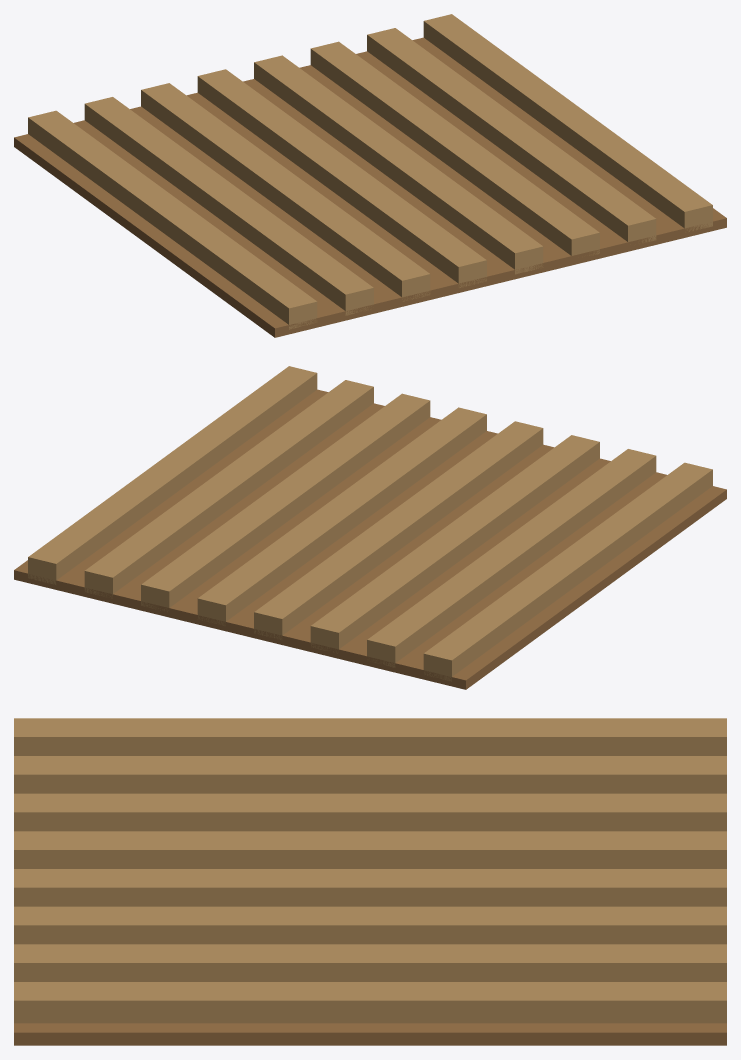
File: TR3_Plowed_Farmland_4x4.glb
3 renders of one model, top to bottom at view 1: azimuth 30°, elevation 25°; view 2: azimuth 150°, elevation 25°; view 3: azimuth 270°, elevation 25°, orthographic. The views are drawn at different scales.
Parts seen in each view (by area): view 1: TR3_Plowed_Farmland_4x4; view 2: TR3_Plowed_Farmland_4x4; view 3: TR3_Plowed_Farmland_4x4.
Boxes of the visible parts, box(x1,y1,x2,y2) form: TR3_Plowed_Farmland_4x4: box(14, 14, 726, 337); TR3_Plowed_Farmland_4x4: box(14, 366, 726, 689); TR3_Plowed_Farmland_4x4: box(14, 718, 726, 1045).
Bounding box in the file's own units: 4 × 0.22 × 4.
